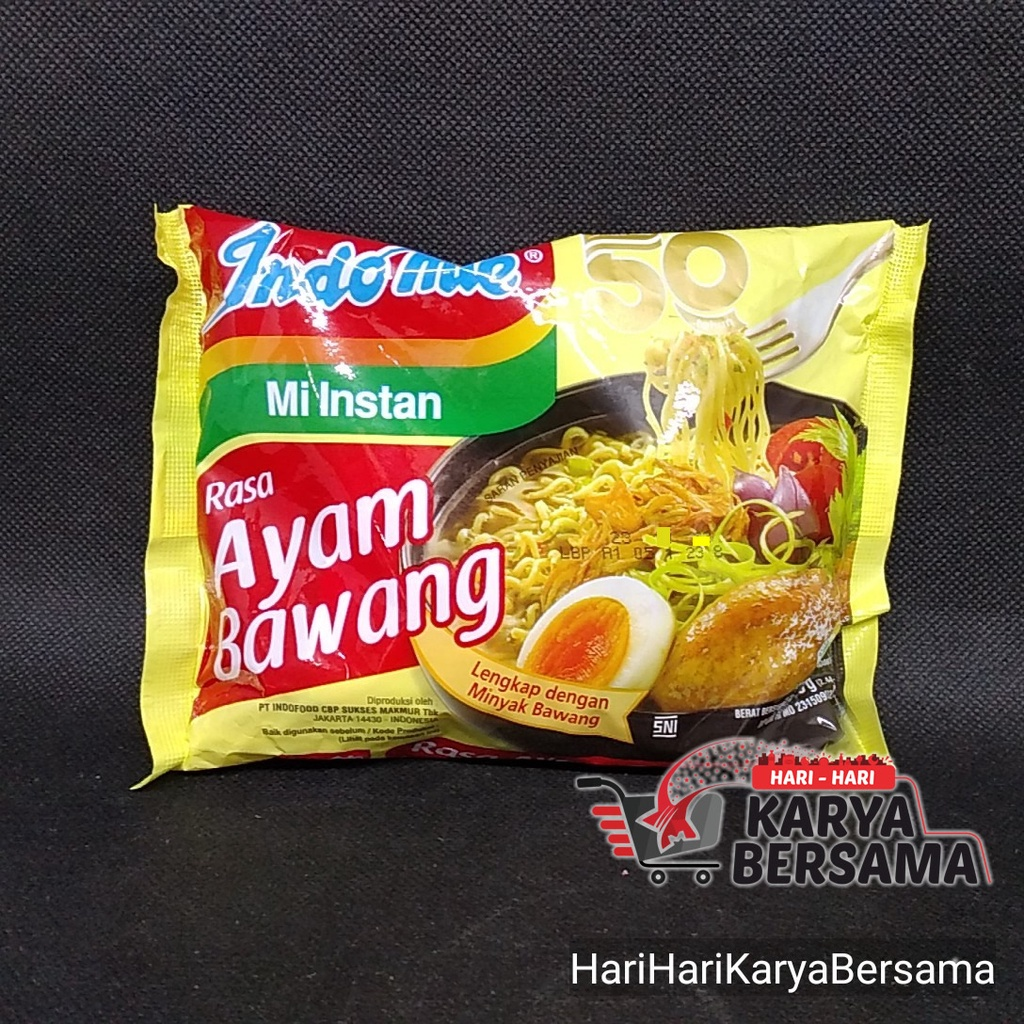Indomie Ayam Bawang (69g): (128, 178, 891, 805)
